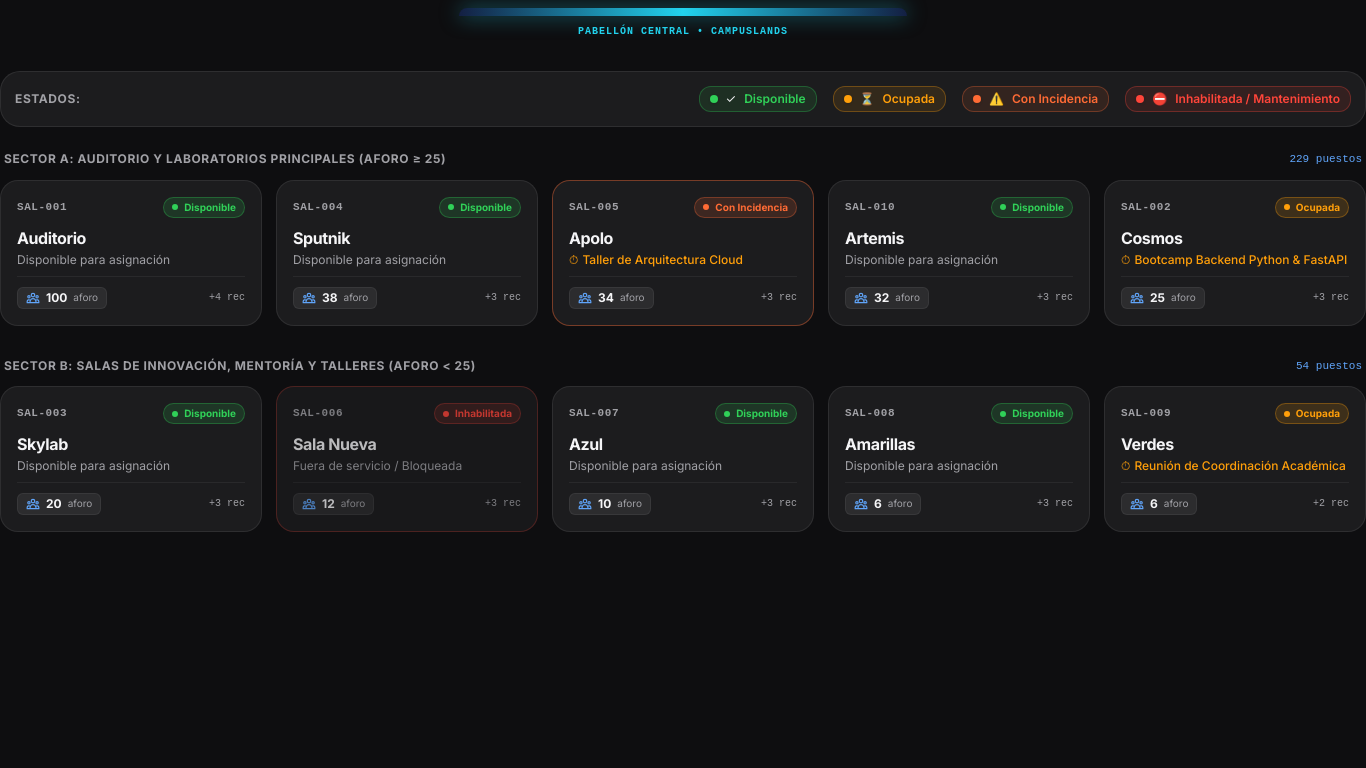
it: RoomMap (HU-18) › debe abrir la ficha técnica modal al seleccionar una sala
The image size is (1366, 768).
# Hacer clic en Auditorio
Step 1. Click the button with aria-label "Sala Auditorio" → (131, 252), box [0,180,262,326]
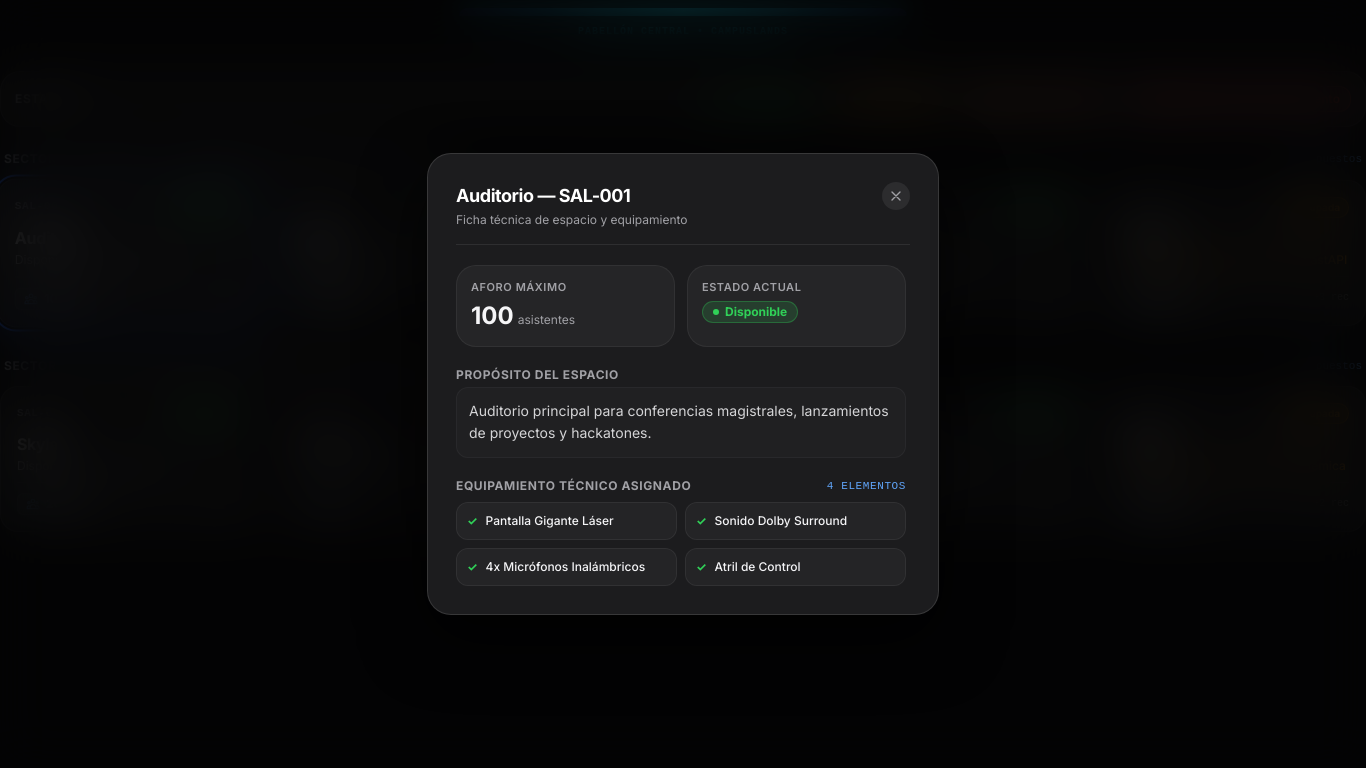
Now the text "Ficha técnica de espacio y equipamiento" is shown, box [456,212,688,228]
Now the text "Aforo Máximo" is shown, box [471,280,567,294]
Now the text "Pantalla Gigante Láser" is shown, box [486,513,614,529]
